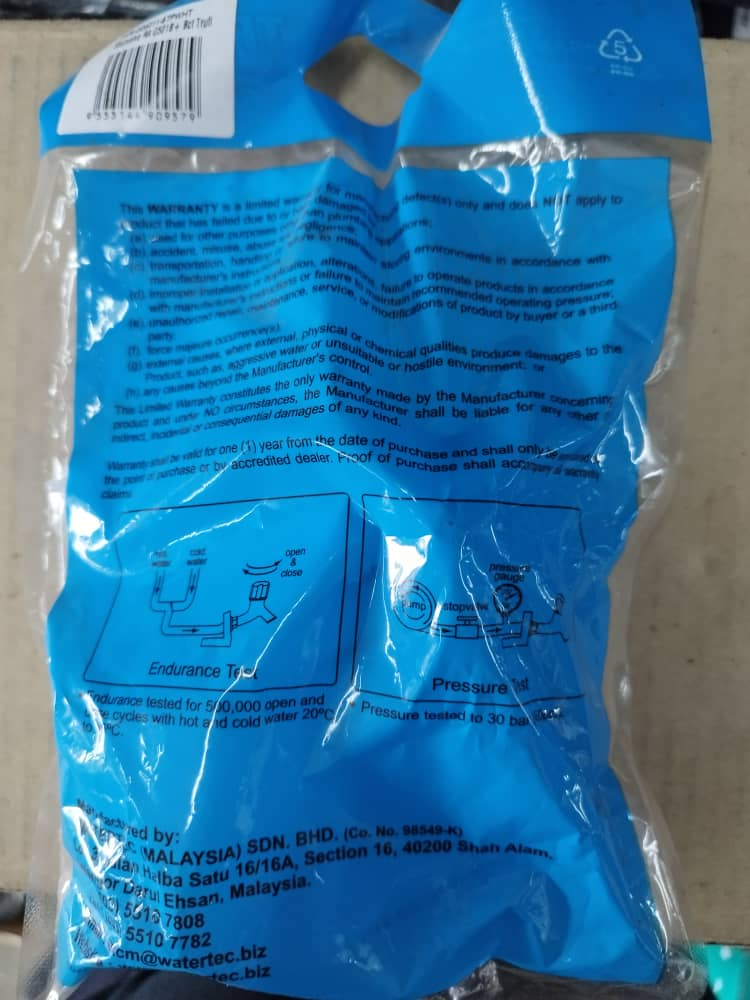sku_water_tap: (45, 139, 697, 996)
